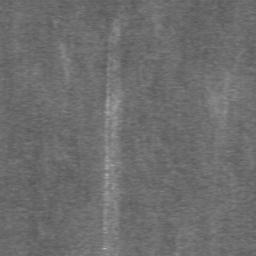Bright scratch: (103, 18, 121, 256)
